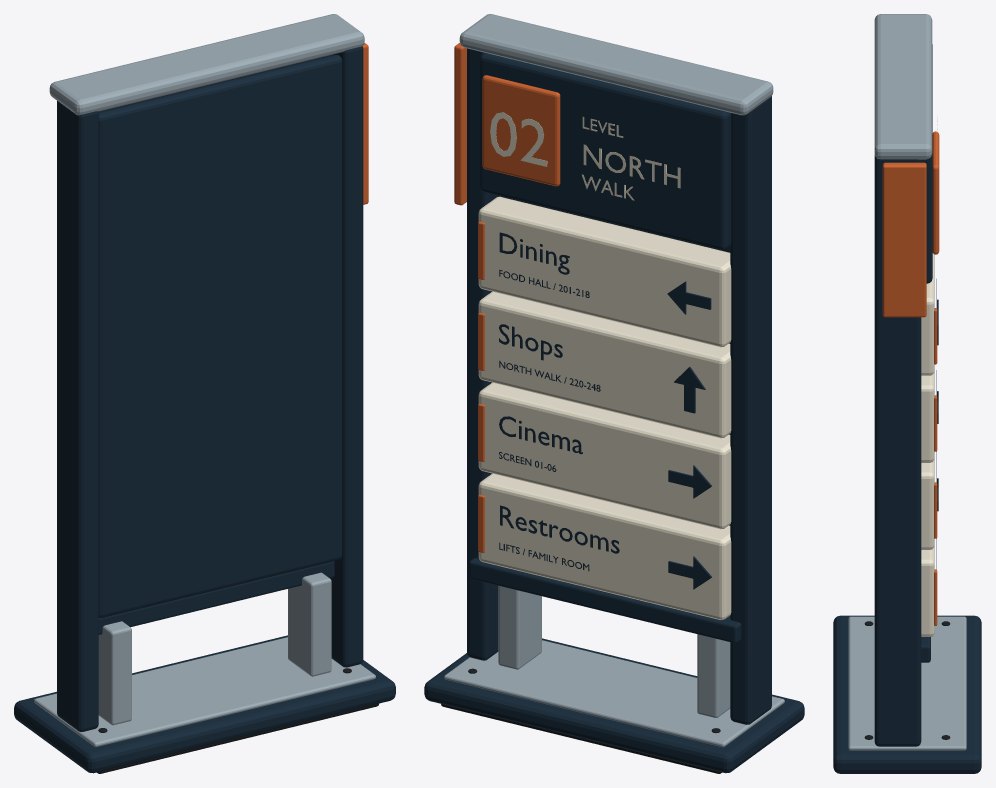
Rendered from mall-floor-direction-sign.glb.
3 views of the same model, side by side, from view 1: azimuth 30°, elevation 25°; view 2: azimuth 150°, elevation 25°; view 3: azimuth 270°, elevation 25° (orthographic). The views are drawn at different scales.
Visible parts, largest first — view 1: SignStructure; view 2: SignStructure, FloorIdentity, DirectionDining, DirectionShops, DirectionCinema, DirectionFacilities; view 3: SignStructure, FloorIdentity, DirectionShops, DirectionFacilities, DirectionCinema, DirectionDining.
Boxes of the visible parts, left/top/right/bottom form: SignStructure: left=14, top=14, right=395, bottom=773; SignStructure: left=424, top=14, right=804, bottom=773; FloorIdentity: left=479, top=52, right=731, bottom=250; DirectionDining: left=478, top=196, right=731, bottom=347; DirectionShops: left=478, top=291, right=731, bottom=438; DirectionCinema: left=478, top=382, right=731, bottom=528; DirectionFacilities: left=478, top=473, right=731, bottom=619; SignStructure: left=833, top=14, right=981, bottom=773; FloorIdentity: left=921, top=44, right=939, bottom=283; DirectionShops: left=921, top=299, right=938, bottom=462; DirectionFacilities: left=921, top=478, right=938, bottom=636; DirectionCinema: left=921, top=391, right=938, bottom=549; DirectionDining: left=921, top=253, right=937, bottom=375.
Size of the model in its own units: 1.24 by 2.53 by 0.54.
